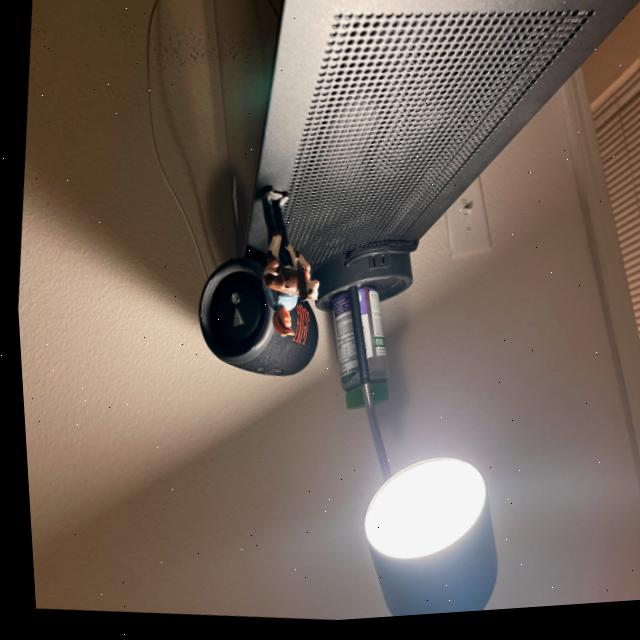cow: (256, 258, 321, 309)
person: (254, 289, 294, 341)
